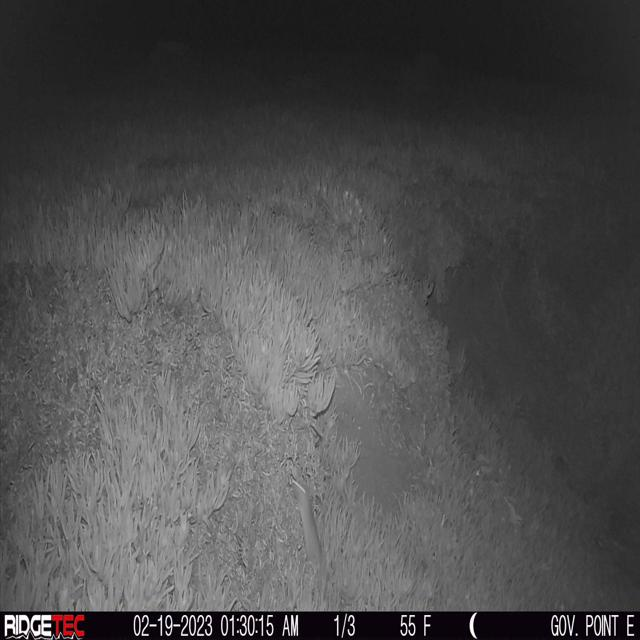rodent: (289, 466, 327, 576)
